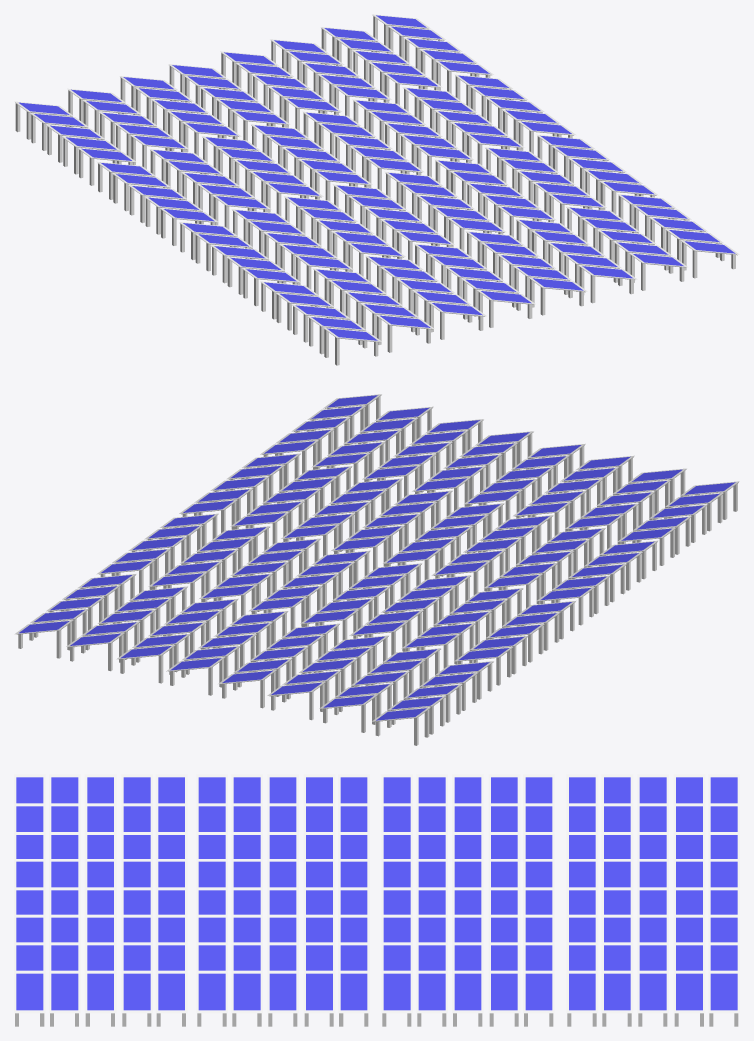
File: solarFarm.fbx
3 views of the same model, one above another, from view 1: azimuth 30°, elevation 25°; view 2: azimuth 150°, elevation 25°; view 3: azimuth 270°, elevation 25° (orthographic). The views are drawn at different scales.
Visible parts, largest first — view 1: pPlane21; view 2: pPlane21; view 3: pPlane21.
Boxes of the visible parts, left/top/right/bottom form: pPlane21: left=14, top=14, right=739, bottom=365; pPlane21: left=14, top=394, right=739, bottom=745; pPlane21: left=14, top=774, right=739, bottom=1026.
Size of the model in its own units: 1.72 by 0.1194 by 2.39.
